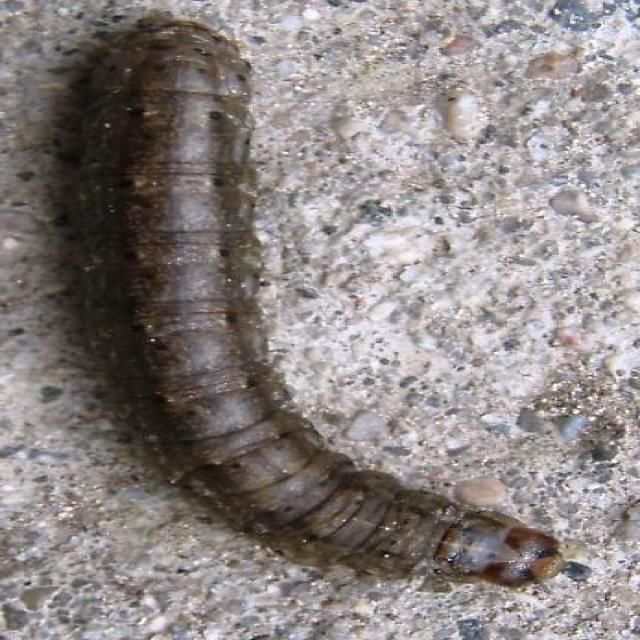black cutworm: (64, 20, 565, 599)
